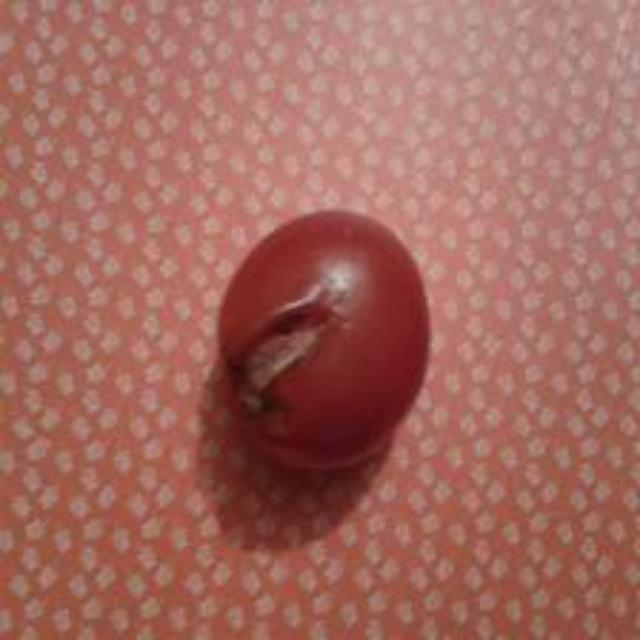defect: (212, 207, 439, 475)
